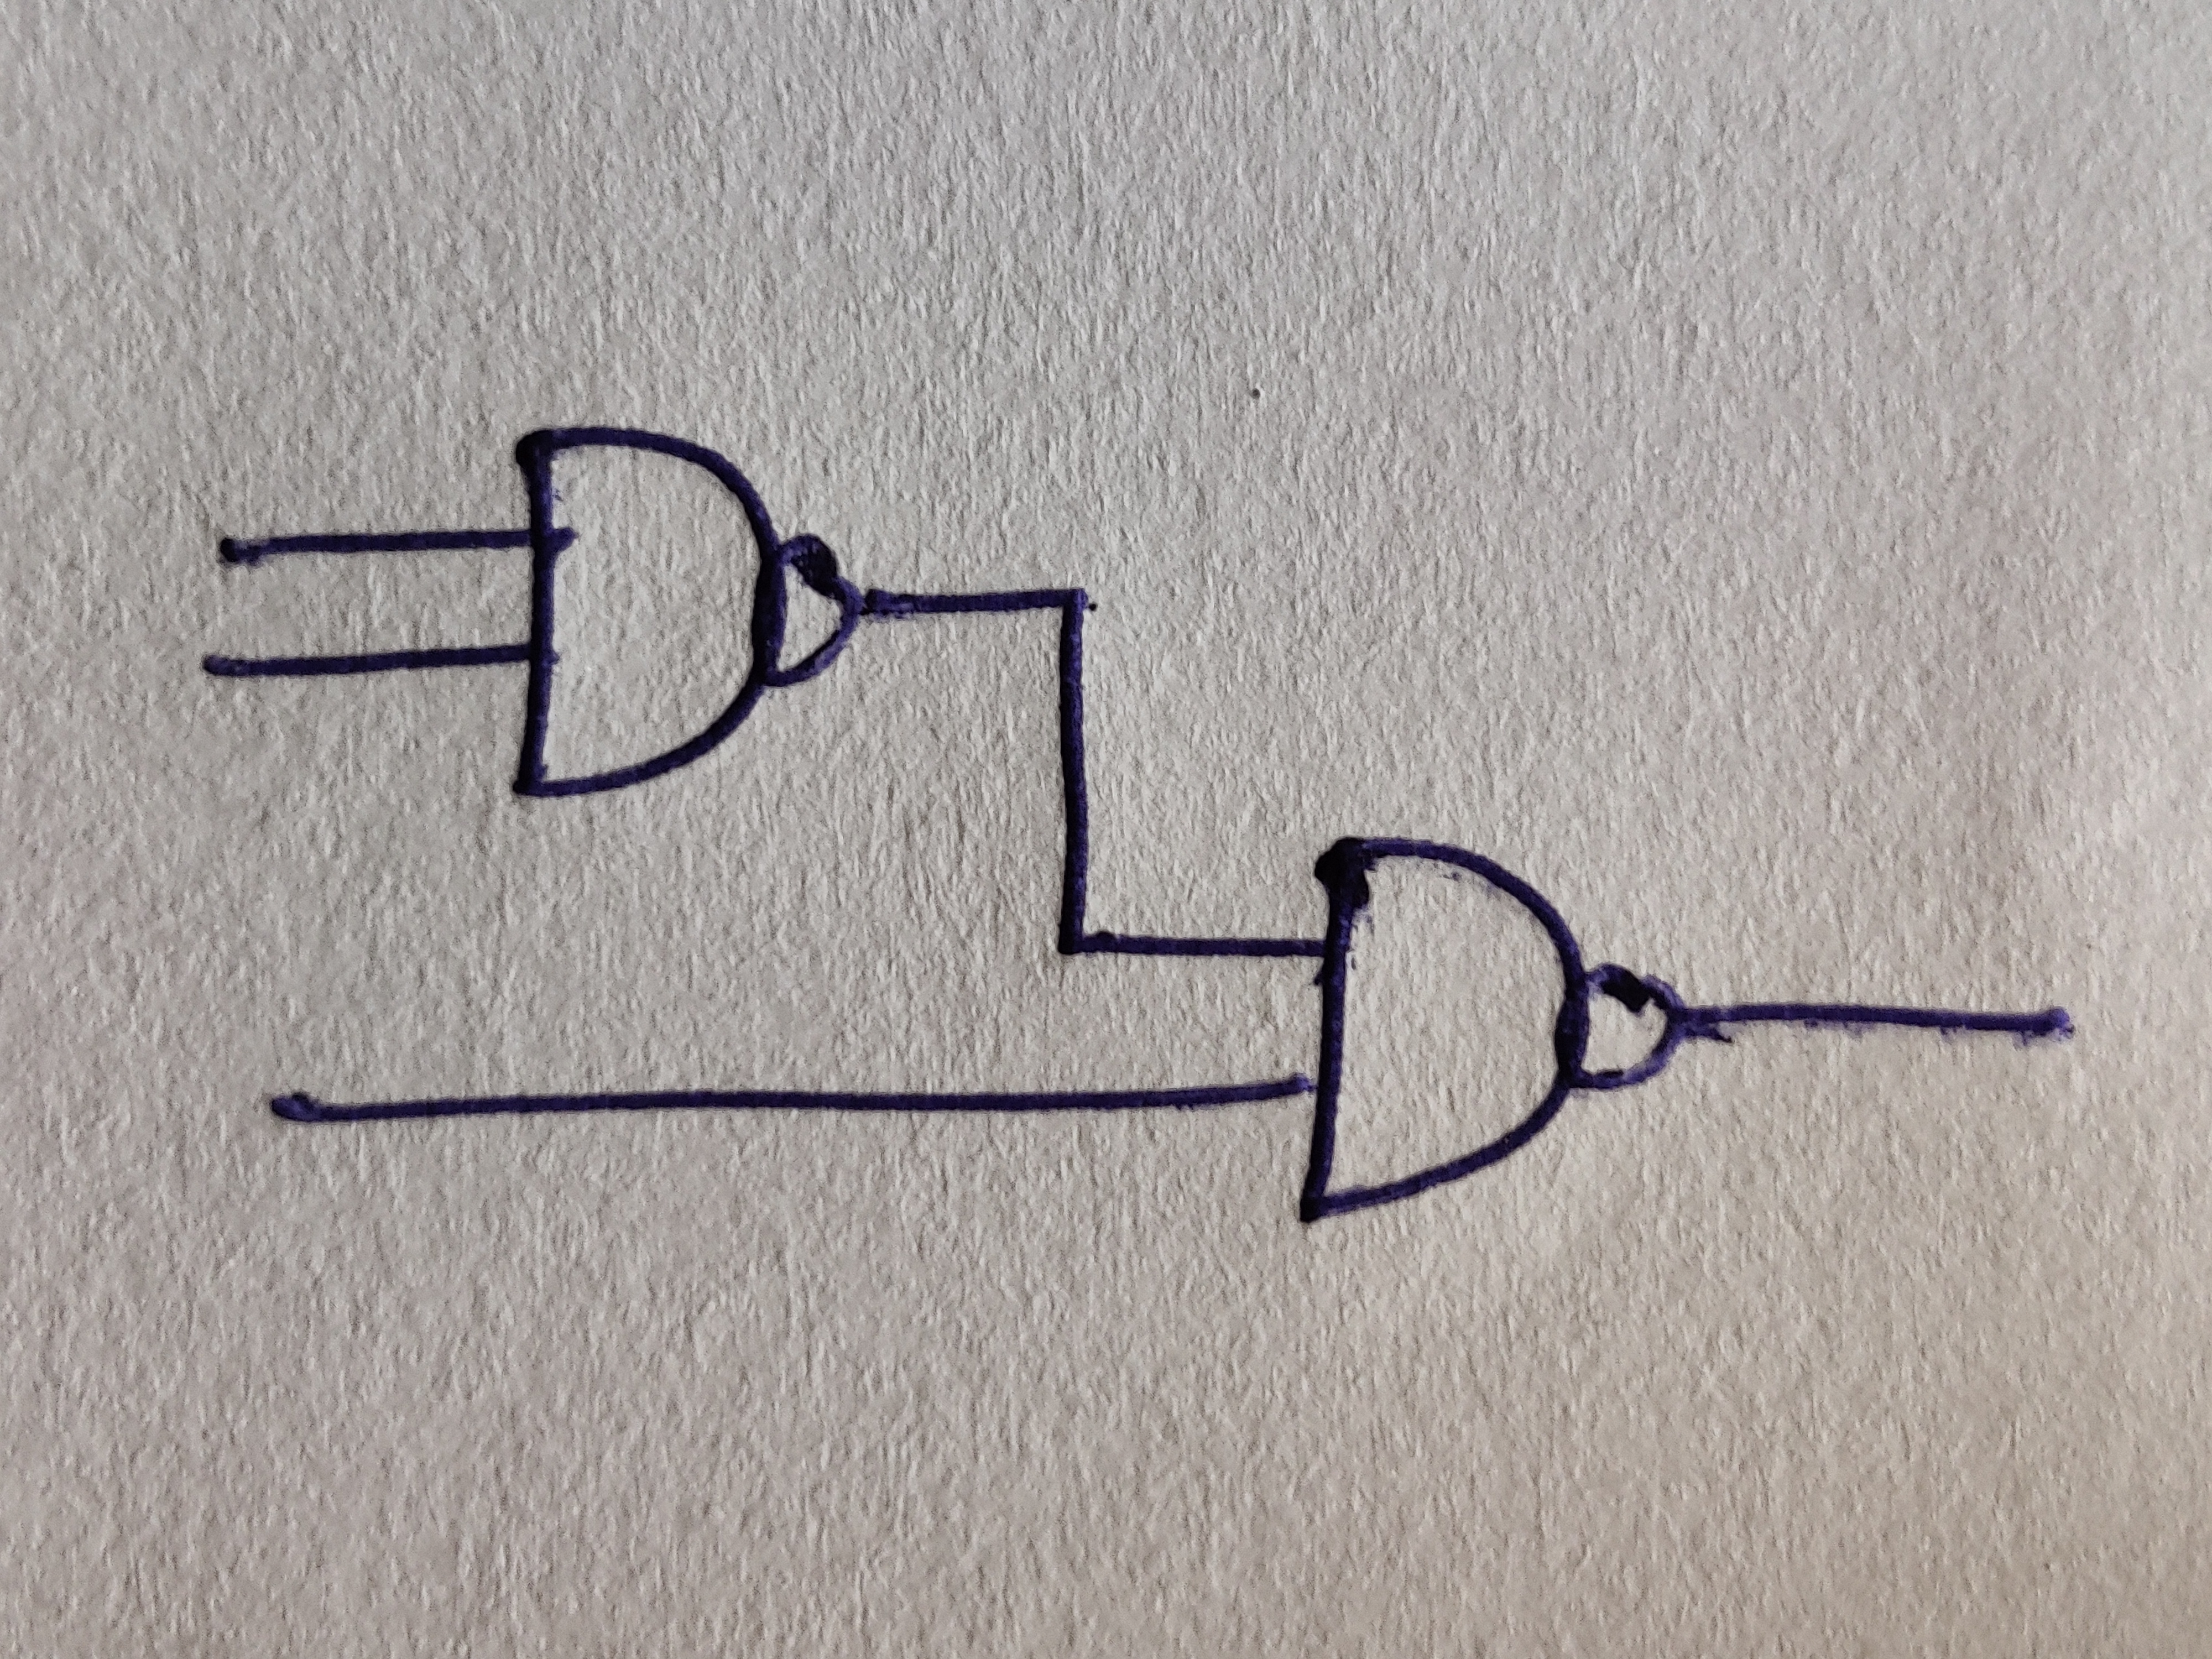and: (1299, 835, 1590, 1223), (516, 425, 789, 800)
not: (766, 535, 860, 685), (1575, 964, 1683, 1091)
